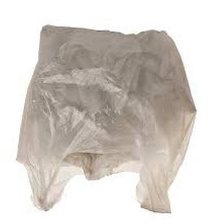plastic_bag: (11, 20, 200, 218)
